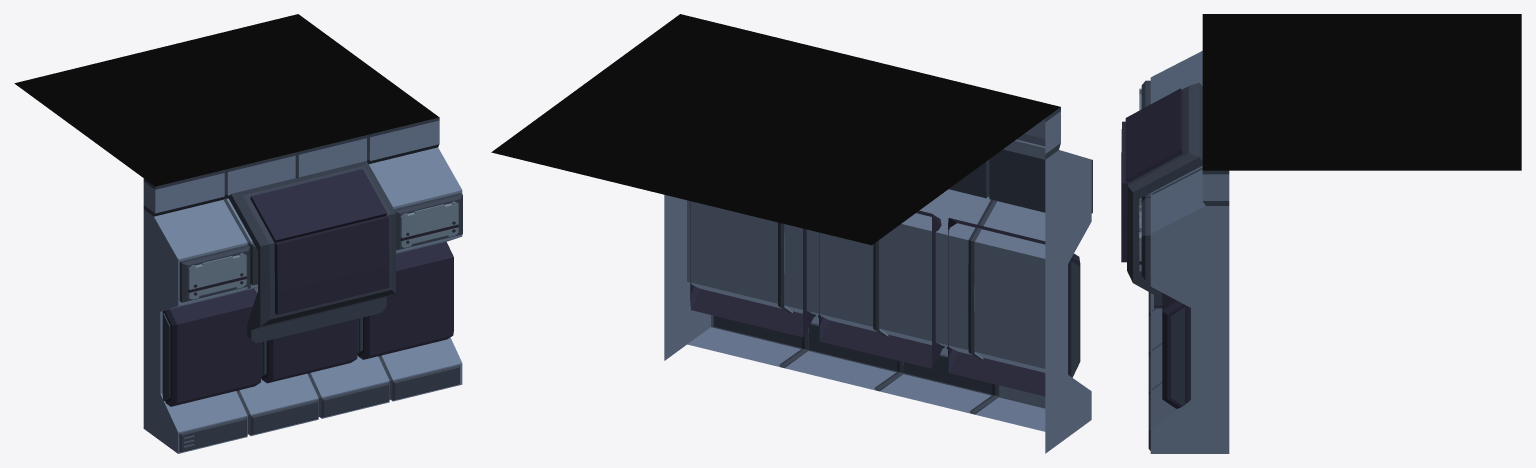
Rendered from WallB.fbx.
3 renders of one model, left to right at view 1: azimuth 30°, elevation 25°; view 2: azimuth 150°, elevation 25°; view 3: azimuth 270°, elevation 25°, orthographic. The views are drawn at different scales.
Parts seen in each view (by area): view 1: WallB; view 2: WallB; view 3: WallB.
Part boxes in pixels (<box>): WallB: <box>14,14,462,453</box>; WallB: <box>491,14,1092,453</box>; WallB: <box>1121,14,1521,453</box>.
Size of the model in its own units: 400 by 337 by 432.
